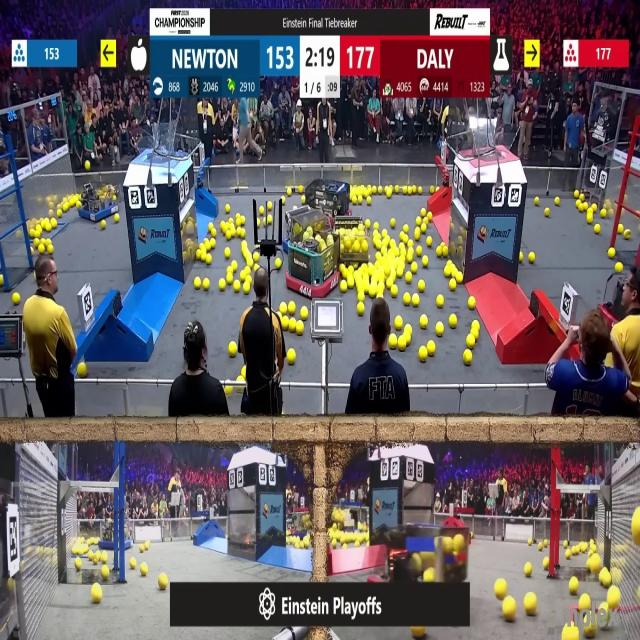ball_airborne: (631, 509, 640, 543)
ball_ground: (502, 598, 515, 621), (608, 587, 622, 606), (525, 594, 536, 614), (495, 581, 506, 599), (92, 586, 102, 604), (600, 570, 610, 587), (413, 626, 425, 640), (586, 625, 597, 639), (581, 595, 591, 610), (569, 580, 578, 596), (160, 573, 169, 589), (424, 569, 434, 582), (77, 362, 86, 376), (464, 350, 472, 365), (420, 347, 428, 362), (287, 349, 295, 364), (230, 343, 238, 358), (427, 342, 435, 357), (102, 566, 110, 580), (466, 336, 474, 349), (389, 336, 396, 350), (394, 317, 402, 329), (218, 279, 226, 291), (450, 315, 458, 327), (412, 294, 420, 306), (420, 316, 428, 328), (287, 303, 295, 315), (234, 280, 242, 292), (435, 322, 443, 334), (524, 564, 532, 576), (397, 339, 405, 351), (396, 266, 404, 278), (295, 321, 302, 334), (282, 317, 289, 330), (402, 293, 410, 304), (203, 278, 210, 290), (243, 282, 250, 294), (302, 308, 309, 320), (12, 292, 19, 304), (357, 304, 364, 316), (75, 558, 82, 570), (341, 281, 348, 293), (141, 563, 148, 575), (456, 273, 463, 285), (368, 285, 375, 297), (406, 326, 413, 338), (362, 280, 369, 292), (405, 336, 413, 346), (193, 278, 200, 289), (288, 319, 295, 330), (419, 280, 425, 292), (542, 558, 548, 570), (468, 298, 474, 310), (588, 212, 594, 224), (436, 294, 442, 306), (378, 284, 384, 296), (450, 280, 457, 290), (252, 252, 259, 262), (406, 274, 413, 284), (357, 292, 364, 302), (445, 268, 452, 278), (242, 248, 249, 258), (391, 286, 397, 297), (226, 274, 232, 285), (102, 553, 108, 564), (240, 229, 246, 240), (564, 551, 571, 560), (608, 248, 614, 258), (617, 264, 623, 274), (595, 223, 601, 233), (412, 264, 418, 274), (280, 304, 286, 314), (529, 252, 535, 262), (233, 262, 239, 272), (276, 258, 282, 268), (422, 256, 428, 266), (131, 558, 137, 568), (415, 230, 421, 240), (436, 246, 442, 256), (348, 279, 354, 289), (211, 228, 217, 238), (376, 239, 382, 249), (50, 218, 56, 228), (376, 250, 382, 260), (331, 538, 337, 548), (232, 229, 238, 239), (389, 240, 396, 248), (364, 220, 371, 228), (245, 276, 252, 284), (46, 246, 52, 255), (555, 198, 561, 207), (206, 254, 212, 263), (390, 218, 396, 227), (625, 231, 631, 240), (210, 240, 216, 249), (100, 220, 106, 229), (225, 232, 231, 241), (341, 265, 347, 274), (575, 202, 581, 211), (220, 220, 226, 229), (240, 216, 246, 225), (299, 194, 305, 203), (0, 275, 4, 288), (224, 248, 229, 258), (427, 237, 432, 247), (241, 272, 246, 282), (417, 246, 422, 256), (408, 252, 413, 262), (195, 250, 200, 260), (444, 247, 449, 257), (387, 278, 392, 288), (402, 224, 408, 232), (225, 386, 231, 394), (471, 320, 477, 328), (268, 202, 274, 210), (140, 542, 146, 550), (619, 224, 625, 232), (400, 234, 406, 242), (253, 264, 259, 272), (242, 240, 248, 248), (226, 266, 232, 274), (409, 240, 415, 248), (57, 210, 63, 218), (286, 188, 292, 196), (33, 240, 39, 248), (375, 221, 381, 229), (382, 230, 388, 238), (572, 190, 578, 198), (367, 264, 373, 272), (378, 186, 384, 194), (39, 245, 44, 254), (537, 198, 542, 207), (269, 215, 274, 224), (421, 208, 426, 217), (366, 198, 371, 207), (427, 211, 432, 220), (358, 198, 363, 207), (428, 186, 434, 193), (246, 268, 252, 275), (226, 217, 232, 224), (242, 366, 246, 376), (259, 207, 264, 215), (417, 217, 422, 225), (387, 190, 392, 198), (601, 210, 606, 218), (422, 224, 427, 232), (578, 192, 583, 200), (48, 210, 53, 218), (90, 552, 94, 562), (416, 224, 421, 232), (114, 214, 118, 223), (544, 208, 548, 217), (520, 253, 524, 262), (256, 218, 260, 227), (399, 243, 405, 249), (418, 186, 423, 193), (402, 186, 407, 193), (224, 205, 228, 213), (538, 542, 542, 550), (208, 222, 212, 230), (528, 538, 532, 545), (282, 198, 286, 205), (298, 185, 302, 192), (564, 540, 568, 547), (543, 540, 547, 546)
goal: (465, 121, 520, 160), (128, 129, 189, 160)
robot_blue: (279, 202, 333, 258), (80, 181, 118, 222), (340, 218, 370, 268), (98, 518, 134, 550), (284, 514, 310, 539)
robot_red: (279, 227, 338, 296), (307, 172, 351, 221)
